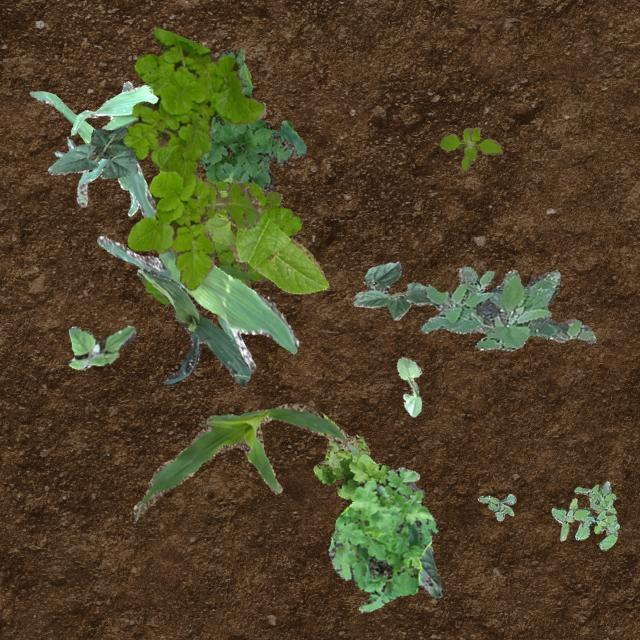crop: (96, 80, 296, 370), (132, 402, 360, 522), (29, 90, 138, 216), (136, 268, 250, 386), (202, 190, 328, 292), (70, 84, 158, 205), (352, 260, 432, 320), (46, 126, 136, 178), (396, 356, 420, 416), (418, 544, 443, 596)
weed: (122, 27, 264, 290), (140, 176, 302, 304), (328, 466, 438, 612), (198, 48, 304, 190), (418, 266, 596, 350), (312, 434, 390, 500), (550, 480, 618, 550), (68, 324, 136, 368), (438, 126, 501, 168), (476, 492, 514, 520)
